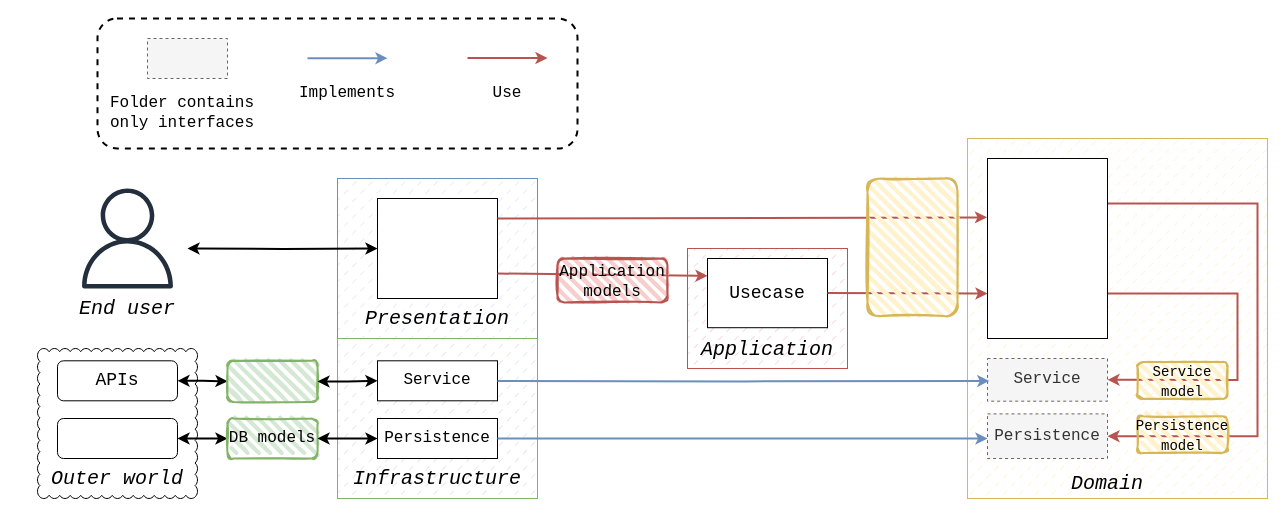
This 1285x516 diagram has some shape labels left out. Here are the shapes that lost their labels. From the top down, the box of each, then its label:
(376, 198, 498, 298): Handler
(866, 177, 958, 316): Entity models
(986, 158, 1108, 338): Entity
(226, 359, 318, 402): APIs models
(56, 418, 178, 458): DB
